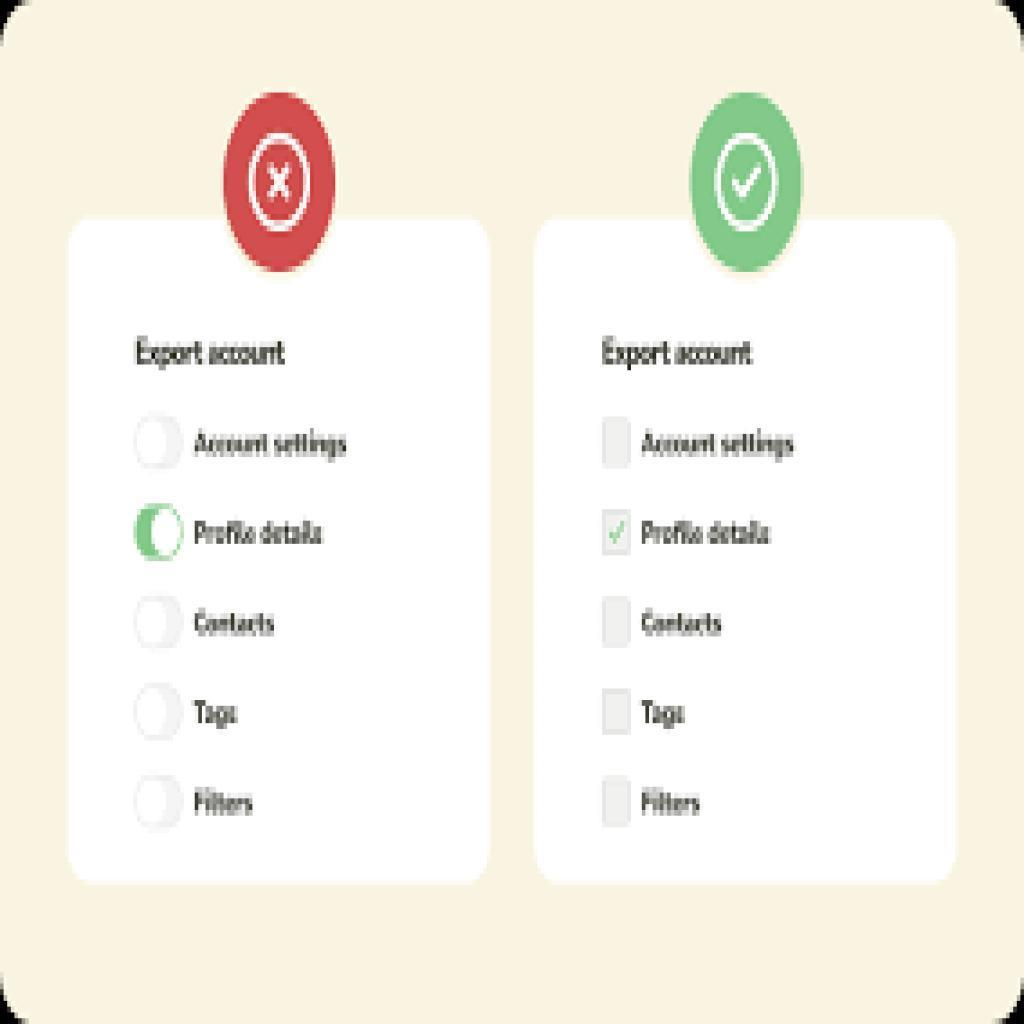checkbox: (603, 595, 634, 651), (602, 419, 633, 473), (603, 691, 634, 736), (603, 780, 632, 827), (605, 510, 633, 557)
switch: (134, 504, 187, 562), (136, 686, 186, 743), (134, 417, 186, 469), (134, 776, 186, 828), (133, 597, 185, 647)
